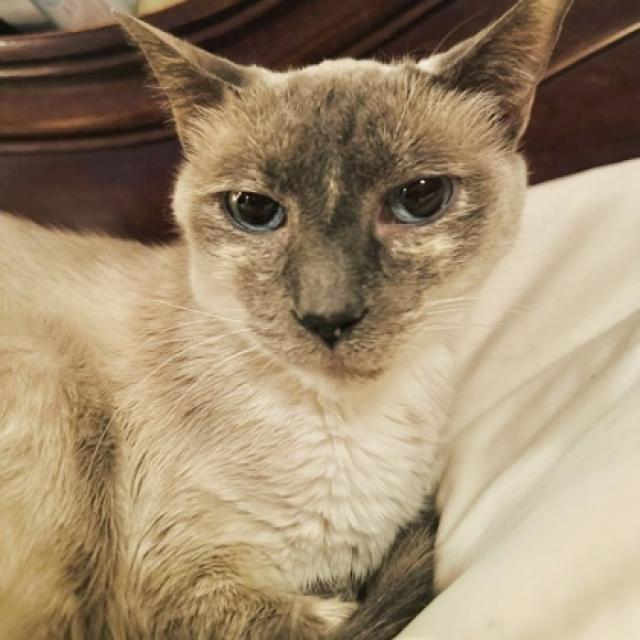siamese_cat: (87, 0, 601, 417)
